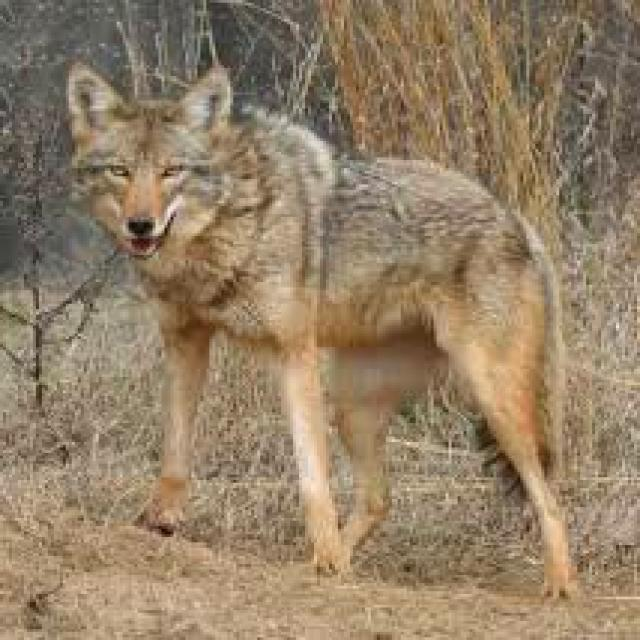coyote: (69, 62, 571, 588)
